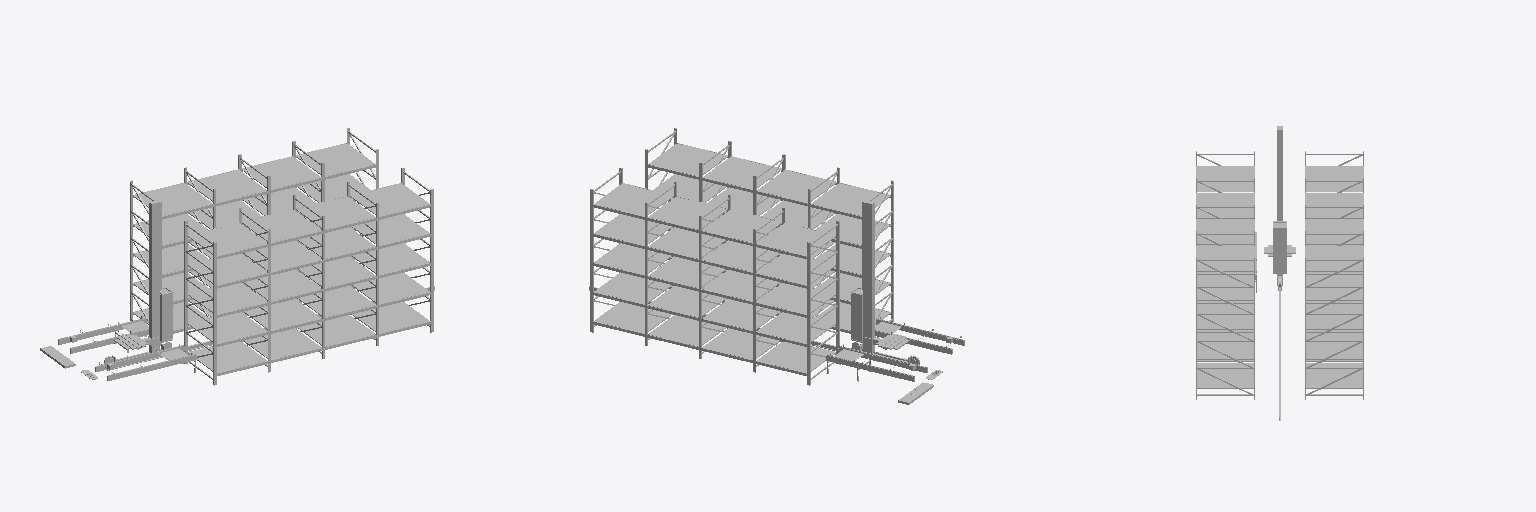
Rendered from zidong.obj.
The picture shows the model from 3 angles: view 1: azimuth 30°, elevation 25°; view 2: azimuth 150°, elevation 25°; view 3: azimuth 270°, elevation 25°; orthographic projection.
Visible parts, largest first — view 1: Shelf10, Shelf5, Shelf7, Shelf8, Shelf9, Shelf6, Rack11, Shelf4, Rack2, Mast, Shelf3, Shelf1 (+2 smaller); view 2: Shelf5, Shelf10, Shelf1, Shelf3, Shelf2, Shelf4, Rack2, Shelf9, Rack11, Mast, Shelf8, Shelf7 (+2 smaller); view 3: Shelf5, Shelf10, Rack2, Rack11, Shelf1, Shelf7, Shelf4, Shelf9, Shelf3, Shelf8, Shelf2, Shelf6 (+2 smaller).
Boxes of the visible parts, x1=… form: Shelf10: x1=188, y1=183, x2=430, y2=258; Shelf5: x1=133, y1=143, x2=375, y2=219; Shelf7: x1=188, y1=272, x2=430, y2=346; Shelf8: x1=188, y1=243, x2=430, y2=317; Shelf9: x1=188, y1=214, x2=430, y2=288; Shelf6: x1=188, y1=302, x2=430, y2=375; Rack11: x1=184, y1=168, x2=433, y2=385; Shelf4: x1=133, y1=174, x2=369, y2=248; Rack2: x1=130, y1=128, x2=378, y2=345; Mast: x1=149, y1=200, x2=159, y2=352; Shelf3: x1=133, y1=215, x2=355, y2=277; Shelf1: x1=133, y1=244, x2=355, y2=304; Shelf5: x1=593, y1=183, x2=835, y2=258; Shelf10: x1=648, y1=143, x2=890, y2=219; Shelf1: x1=593, y1=272, x2=835, y2=346; Shelf3: x1=593, y1=243, x2=835, y2=317; Shelf2: x1=593, y1=302, x2=835, y2=375; Shelf4: x1=593, y1=214, x2=835, y2=288; Rack2: x1=590, y1=168, x2=839, y2=385; Shelf9: x1=654, y1=174, x2=890, y2=248; Rack11: x1=645, y1=128, x2=893, y2=342; Mast: x1=863, y1=200, x2=874, y2=353; Shelf8: x1=668, y1=215, x2=890, y2=277; Shelf7: x1=668, y1=244, x2=890, y2=304; Shelf5: x1=1305, y1=166, x2=1363, y2=271; Shelf10: x1=1196, y1=166, x2=1254, y2=271; Rack2: x1=1305, y1=151, x2=1363, y2=399; Rack11: x1=1196, y1=151, x2=1254, y2=399; Shelf1: x1=1306, y1=330, x2=1362, y2=359; Shelf7: x1=1197, y1=330, x2=1253, y2=359; Shelf4: x1=1306, y1=245, x2=1362, y2=300; Shelf9: x1=1197, y1=245, x2=1253, y2=300; Shelf3: x1=1306, y1=301, x2=1362, y2=329; Shelf8: x1=1197, y1=301, x2=1253, y2=329; Shelf2: x1=1306, y1=360, x2=1362, y2=388; Shelf6: x1=1197, y1=360, x2=1253, y2=388.
Size of the model in its own units: 16.59 by 6.99 by 6.8.